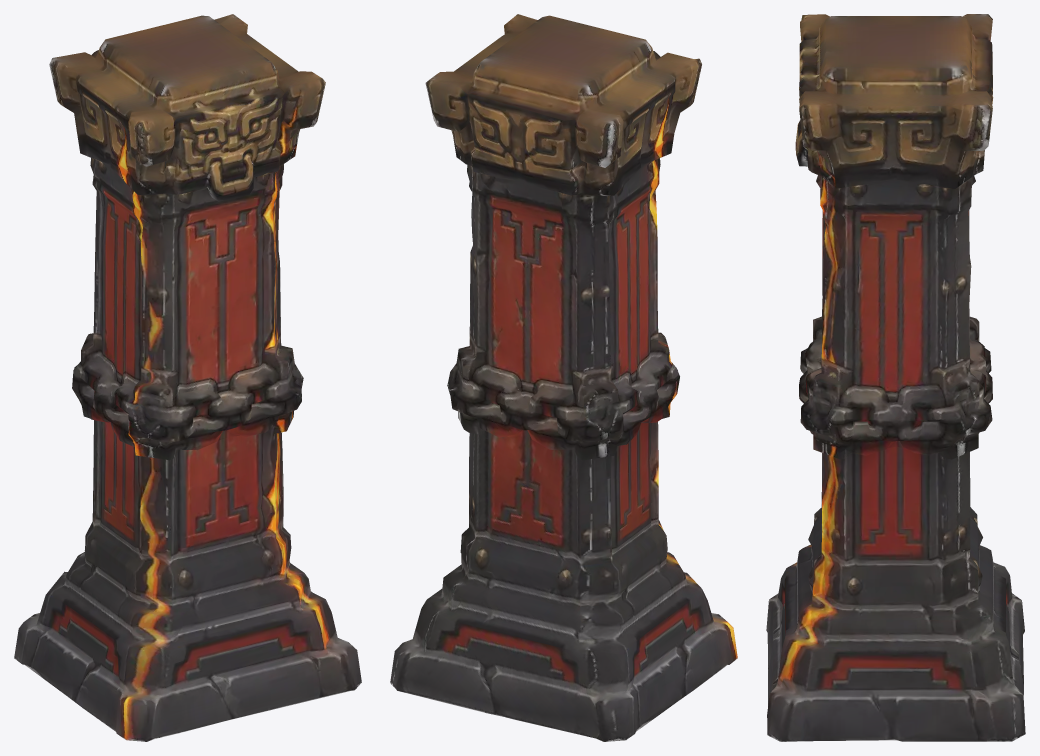
The model's file is SM_Tripo_InfernoColumn.glb.
The picture shows the model from 3 angles, left to right: view 1: azimuth 30°, elevation 25°; view 2: azimuth 150°, elevation 25°; view 3: azimuth 270°, elevation 25°; orthographic projection. The views are drawn at different scales.
Parts seen in each view (by area): view 1: SM_Tripo_InfernoColumn_LOD0; view 2: SM_Tripo_InfernoColumn_LOD0; view 3: SM_Tripo_InfernoColumn_LOD0.
Boxes of the visible parts, x1,y1,x2,y2 form: SM_Tripo_InfernoColumn_LOD0: (14, 14, 361, 741); SM_Tripo_InfernoColumn_LOD0: (390, 14, 737, 741); SM_Tripo_InfernoColumn_LOD0: (766, 14, 1025, 741).
Size of the model in its own units: 1.97 by 4.93 by 1.81.
1 material, 1 textured.
